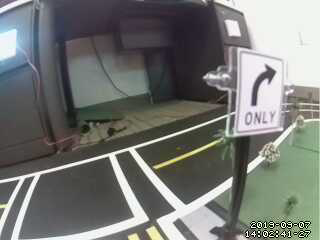Right_only_sign: (227, 47, 284, 130)
